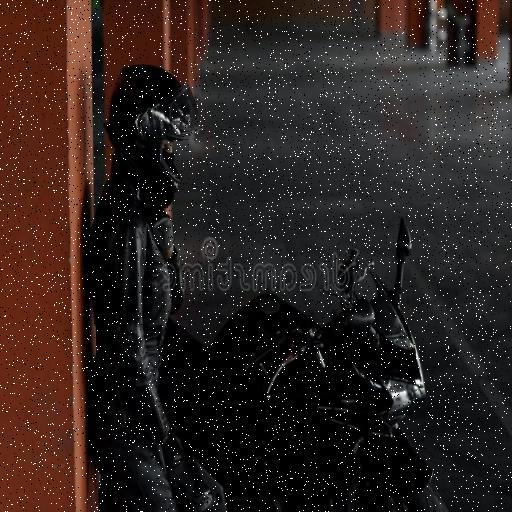Helmet: (106, 65, 201, 205)
Motor: (161, 220, 447, 511)
